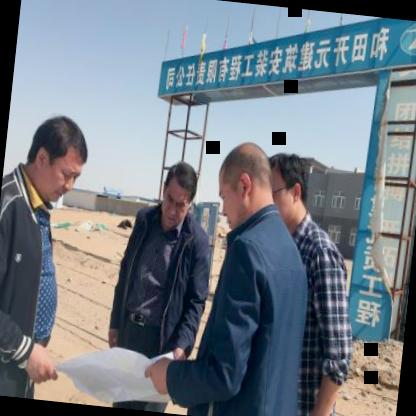head: (19, 107, 97, 209), (209, 134, 276, 236), (264, 146, 310, 228), (158, 156, 202, 233)
